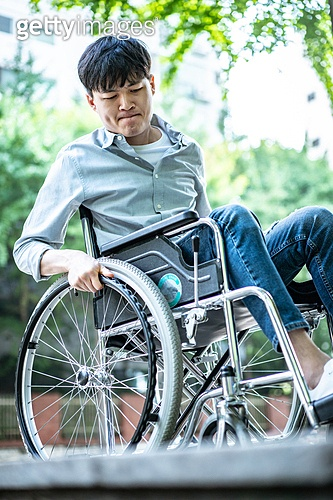wheelchair: (12, 36, 333, 464)
